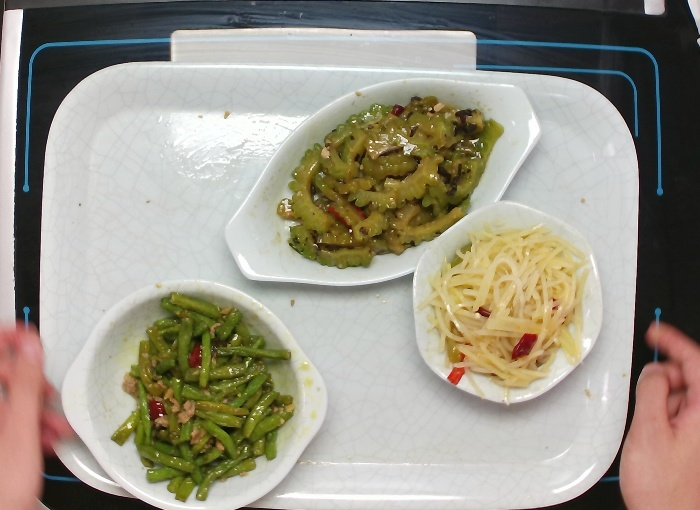JYsf-Shuang_Er_Wan: (62, 276, 327, 510)
JYsf-Yu_Pan: (225, 69, 540, 291)
WCQzf-Hua_Duo_Wan: (409, 197, 605, 408)
